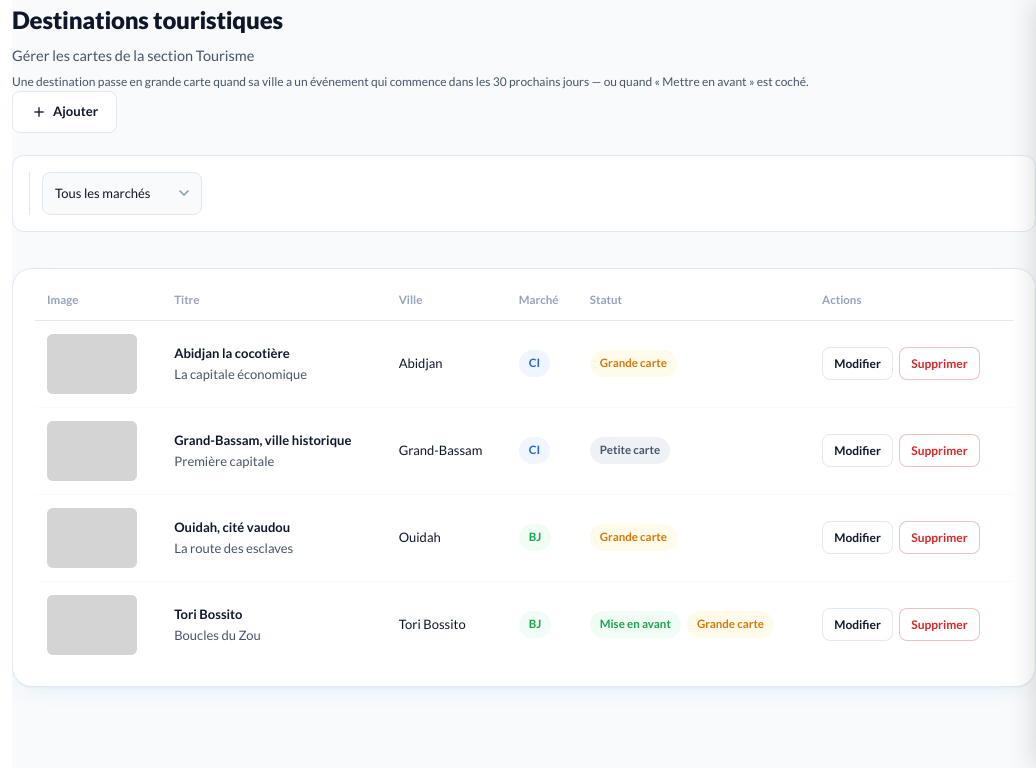
AdminDestinationsPage — création › valide les champs obligatoires avant de toucher à l'image
Click the button "Ajouter" at (64, 112), box [12,91,117,133]
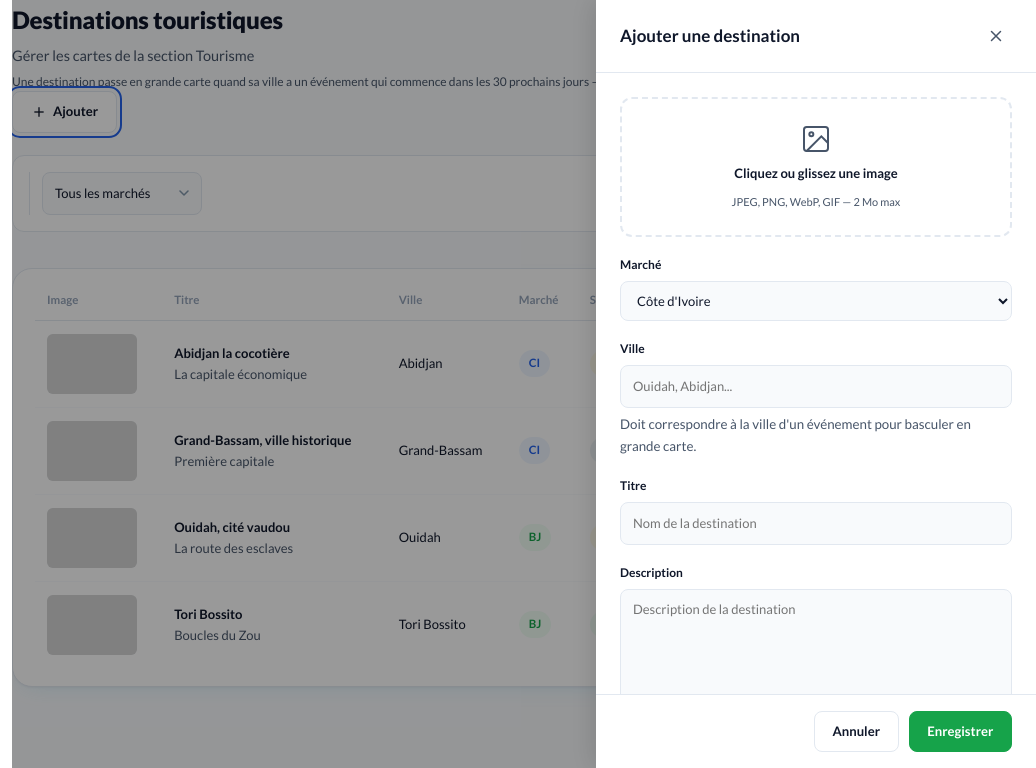
Click the button "Enregistrer" at (960, 731), box [909,711,1012,752]
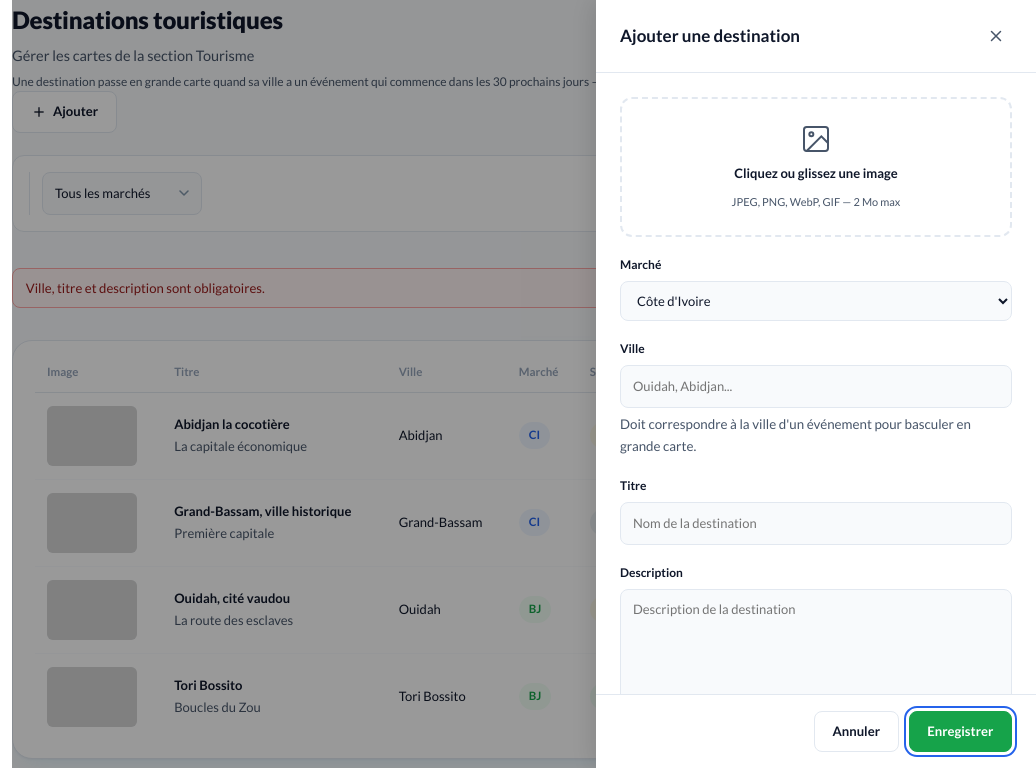
expect the text "Ville, titre et description sont obligatoires." is shown: met, box [12,268,1035,308]
